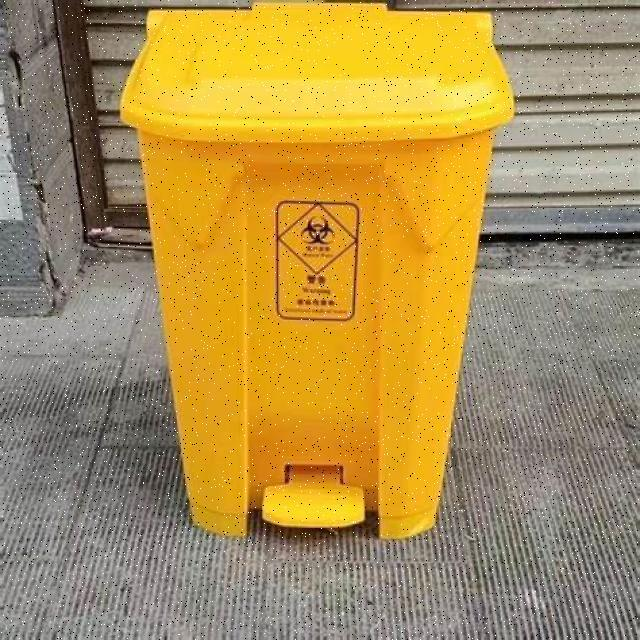garbage container: (114, 7, 543, 567)
